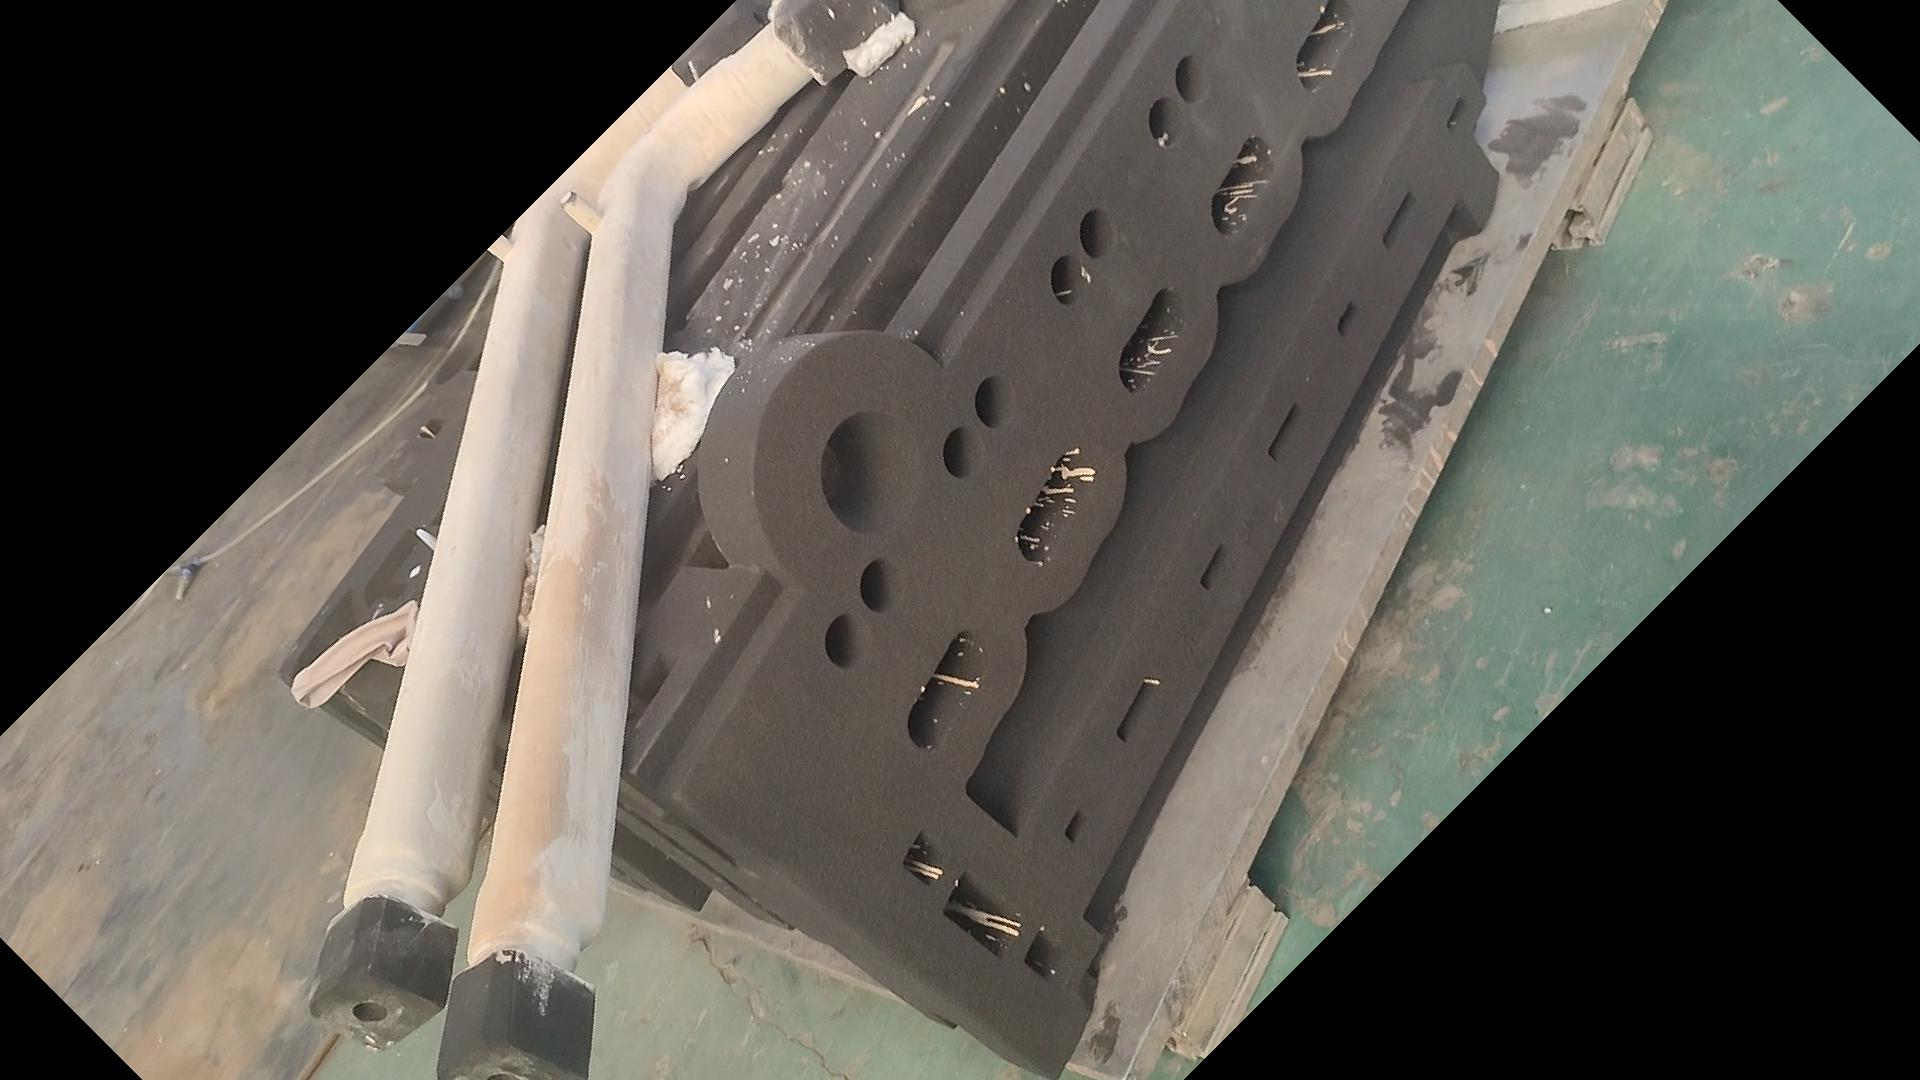pouring hole: (820, 407, 924, 535)
